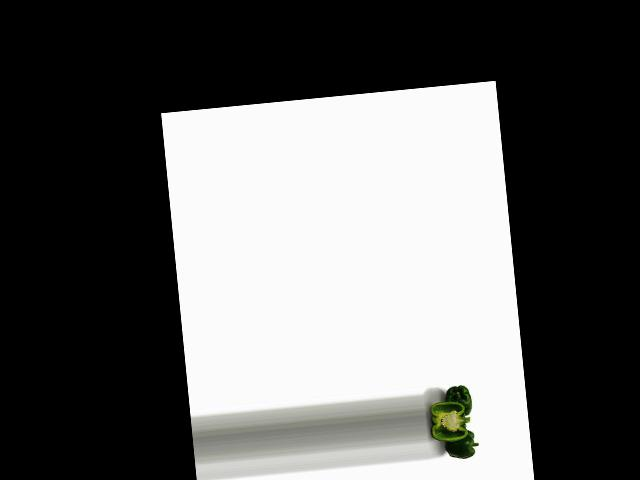bell_pepper: (440, 381, 476, 420)
